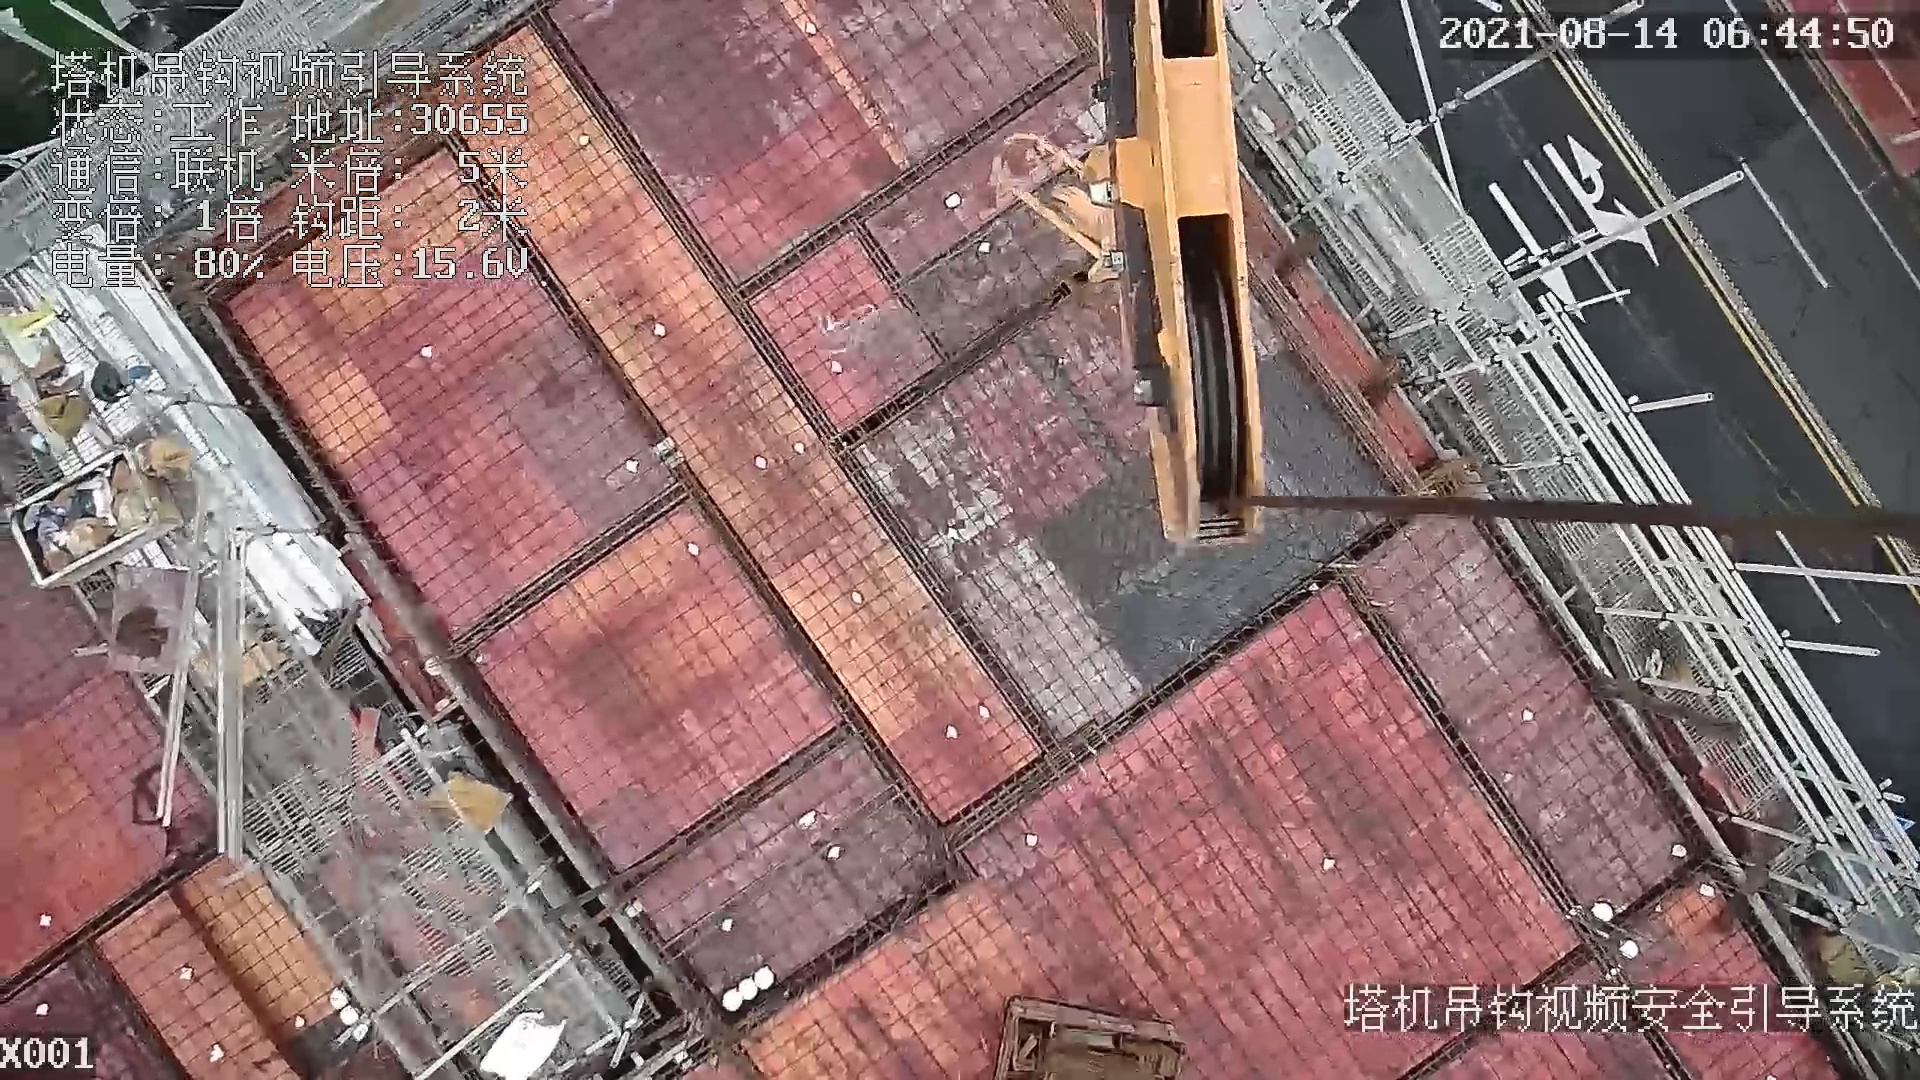hook: (992, 3, 1273, 549)
